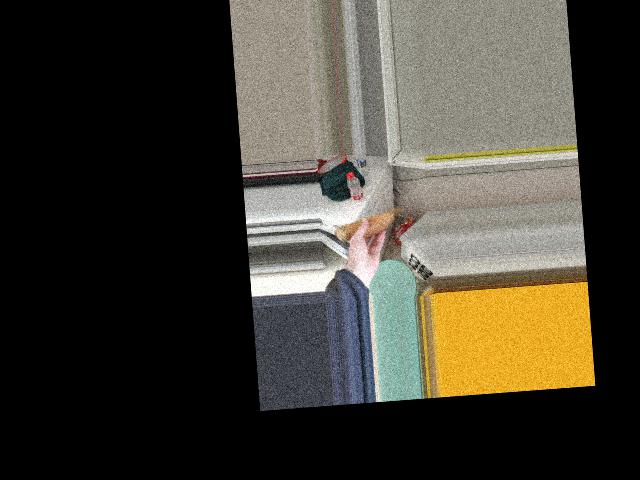sweet_potato: (337, 204, 403, 244)
